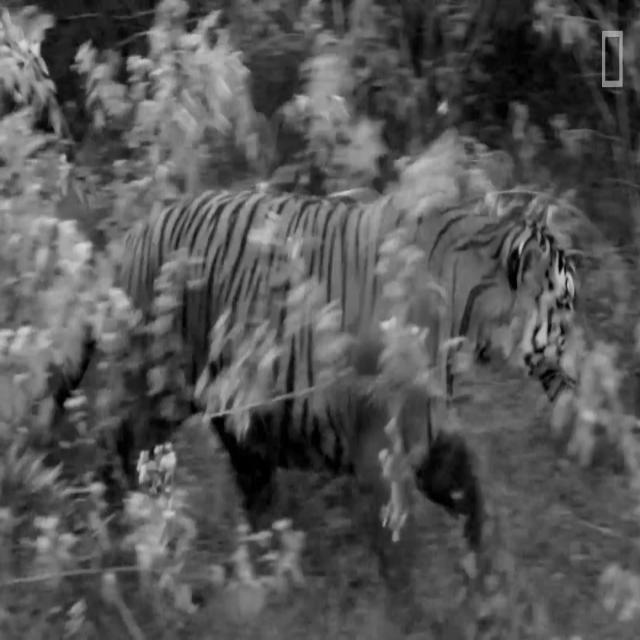TIGER: (92, 157, 591, 597)
